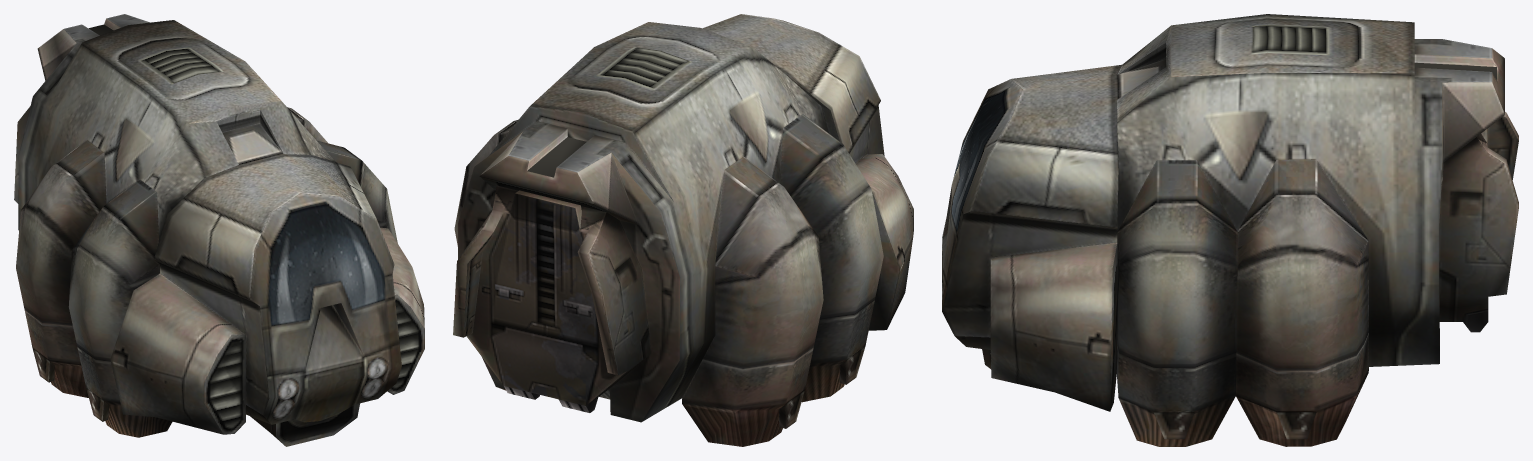
File: leyland.glb
3 views of the same model, side by side, from view 1: azimuth 30°, elevation 25°; view 2: azimuth 150°, elevation 25°; view 3: azimuth 270°, elevation 25° (orthographic). The views are drawn at different scales.
Parts seen in each view (by area): view 1: cube1; view 2: cube1; view 3: cube1.
Boxes of the visible parts, x1,y1,x2,y2 form: cube1: (14,14,424,446); cube1: (453,14,913,446); cube1: (942,14,1518,446).
Size of the model in its own units: 273 by 252 by 384.
Materials: 1 (1 with a texture image).
